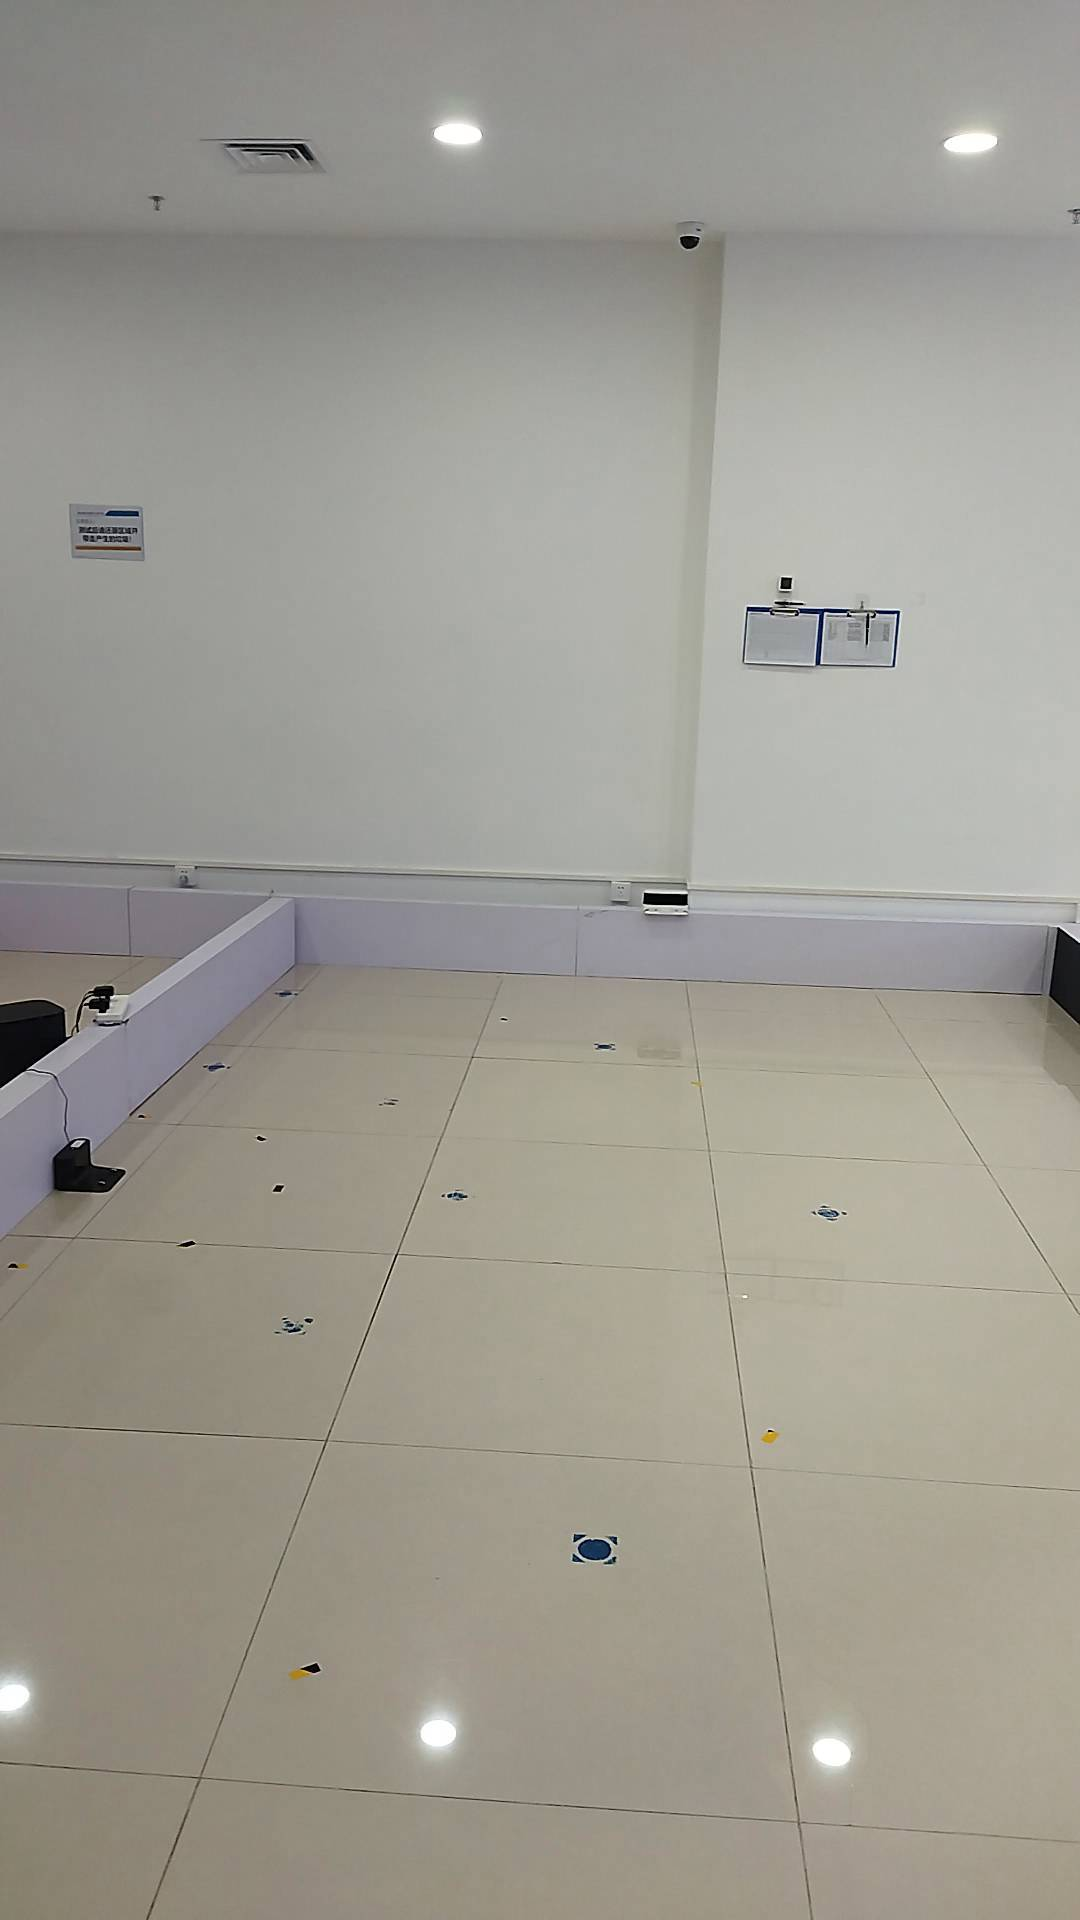recharge seat: (50, 1135, 127, 1197), (636, 890, 695, 922)
